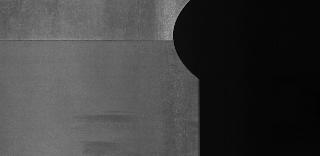welding line: (2, 35, 176, 45)
